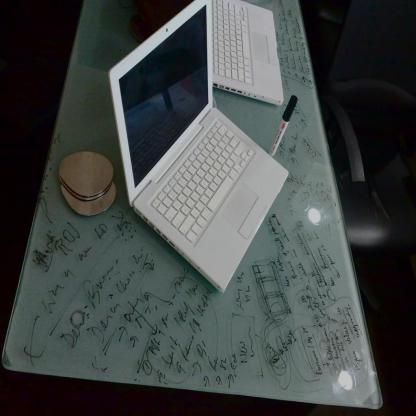board: (113, 0, 290, 295), (211, 0, 283, 106)
